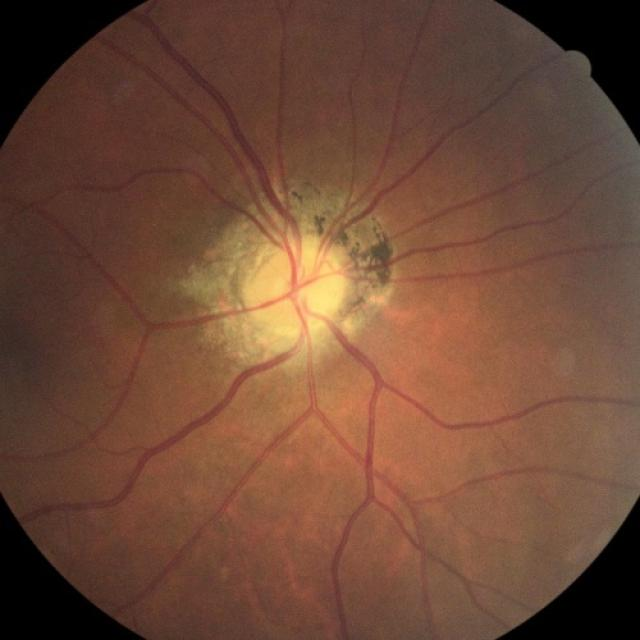OC: (271, 271, 306, 307)
OD: (244, 246, 346, 336)
